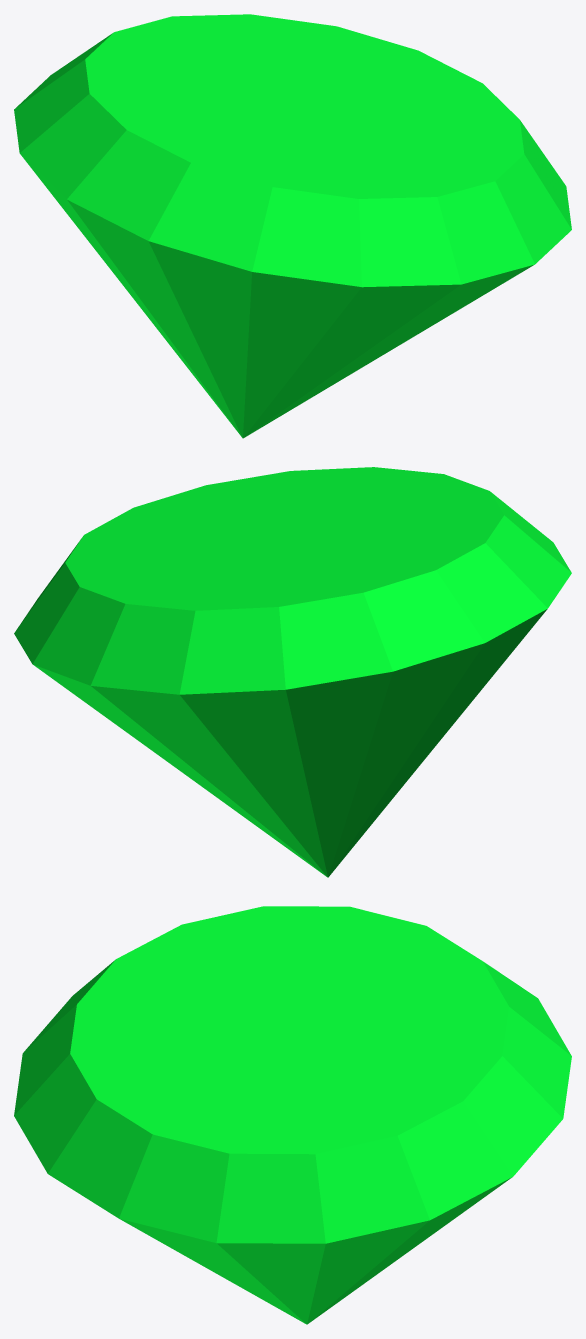
File: Emerald.fbx
3 views of the same model, one above another, from view 1: azimuth 30°, elevation 25°; view 2: azimuth 150°, elevation 25°; view 3: azimuth 270°, elevation 25° (orthographic).
Parts seen in each view (by area): view 1: Emerald; view 2: Emerald; view 3: Emerald.
Boxes of the visible parts, x1,y1,x2,y2 form: Emerald: [14, 14, 571, 438]; Emerald: [14, 467, 571, 877]; Emerald: [14, 906, 571, 1324].
Size of the model in its own units: 0.3967 by 0.2819 by 0.4016.
1 material, 1 textured.
